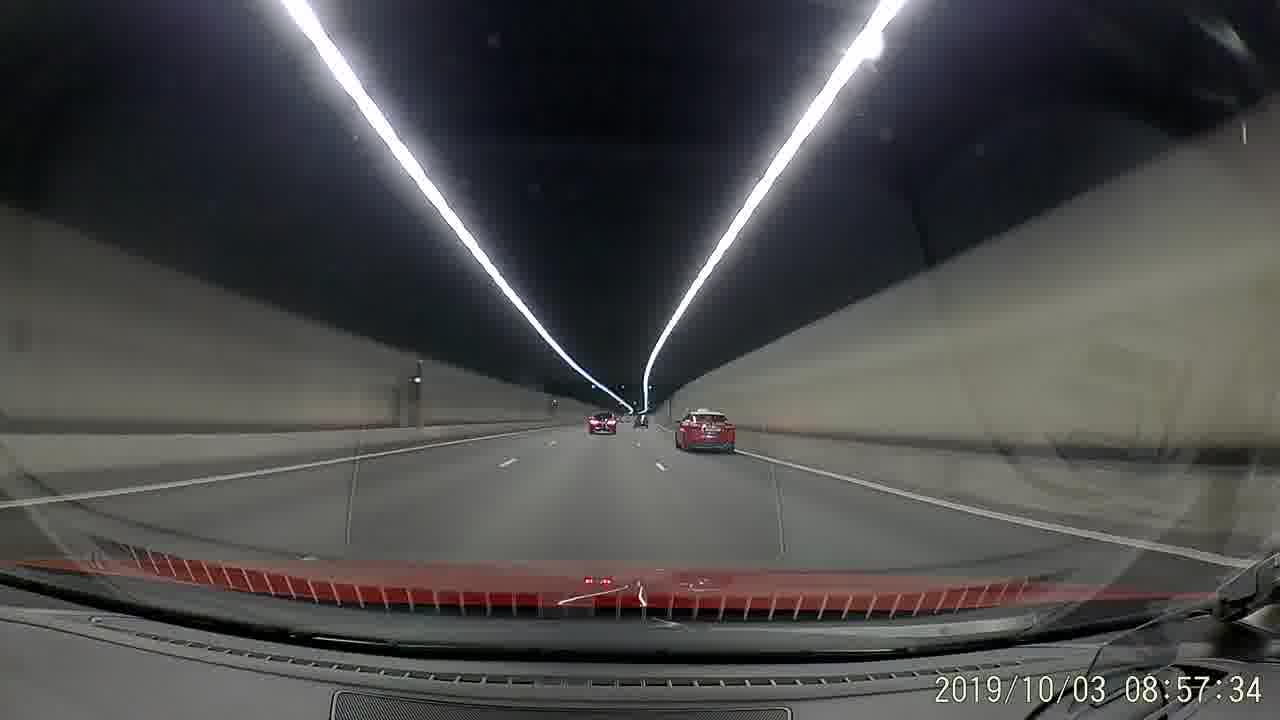car: (672, 407, 735, 453), (587, 409, 618, 436), (631, 411, 650, 430)
